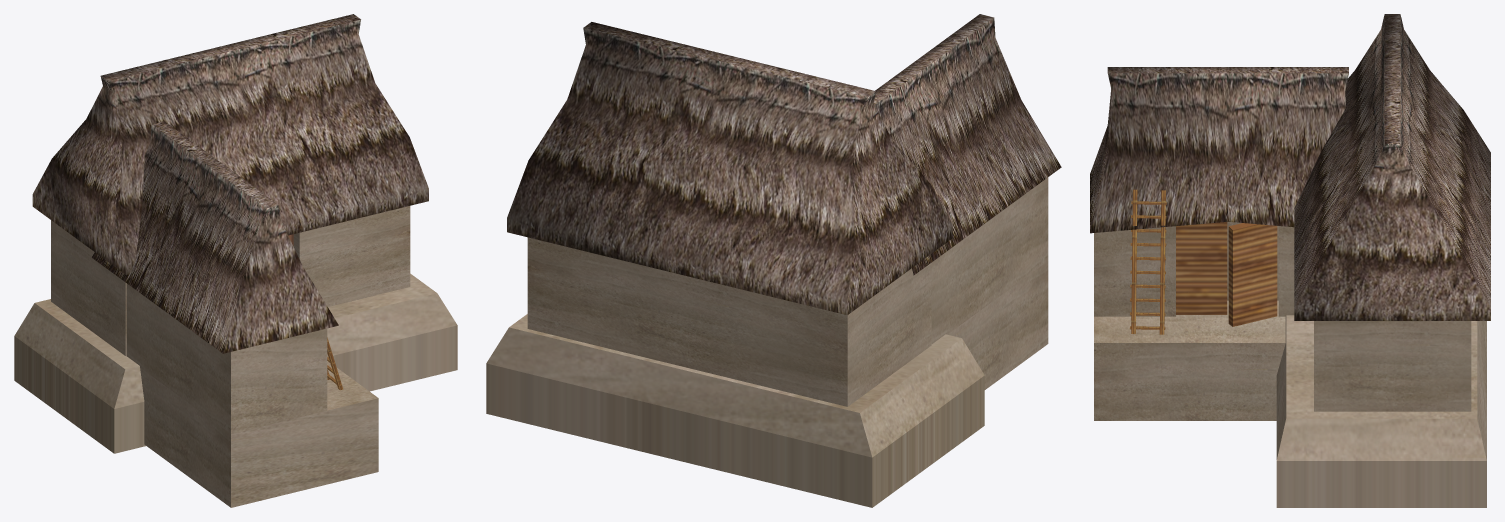
Rendered from tara_storehouse.dae.
3 views of the same model, side by side, from view 1: azimuth 30°, elevation 25°; view 2: azimuth 150°, elevation 25°; view 3: azimuth 270°, elevation 25° (orthographic). The views are drawn at different scales.
Parts seen in each view (by area): view 1: storehouse; view 2: storehouse; view 3: storehouse.
Part boxes in pixels (box(x1,y1,x2,y2)): storehouse: box(14, 14, 457, 507); storehouse: box(486, 14, 1061, 507); storehouse: box(1090, 14, 1490, 507).
Bounding box in the file's own units: 14.76 × 14.18 × 13.31.
